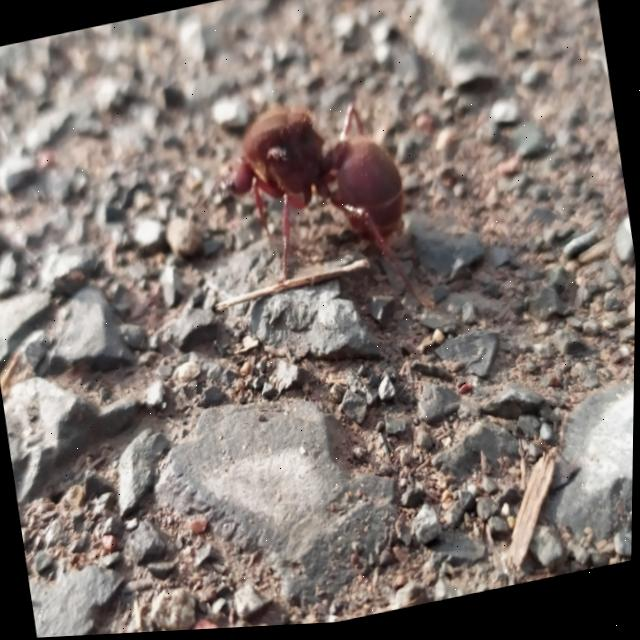Alive-Female-Dealate: (213, 79, 441, 355)
